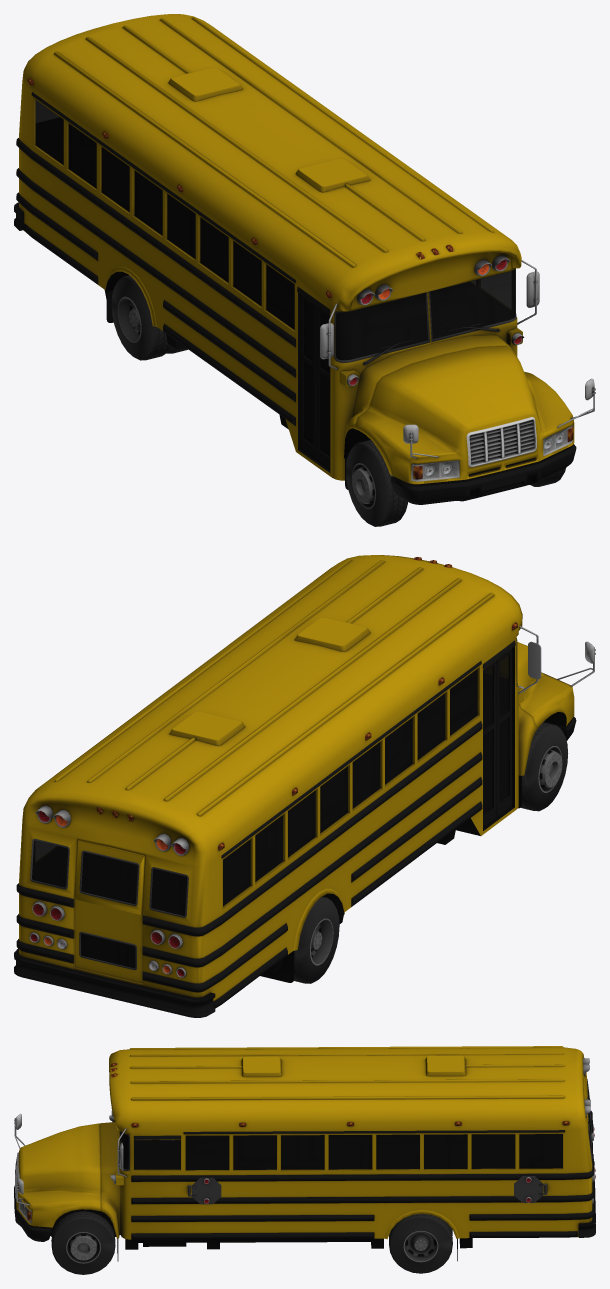
Rendered from veicolo_scuolabus.glb.
3 views of the same model, one above another, from view 1: azimuth 30°, elevation 25°; view 2: azimuth 150°, elevation 25°; view 3: azimuth 270°, elevation 25° (orthographic). The views are drawn at different scales.
Visible parts, largest first — view 1: sb_modello; view 2: sb_modello; view 3: sb_modello.
Boxes of the visible parts, <box> form: sb_modello: <box>14,14,595,526</box>; sb_modello: <box>14,555,595,1017</box>; sb_modello: <box>14,1046,595,1274</box>.
Bounding box in the file's own units: 2.55 × 2.67 × 7.92.
3 materials, 3 textured.
